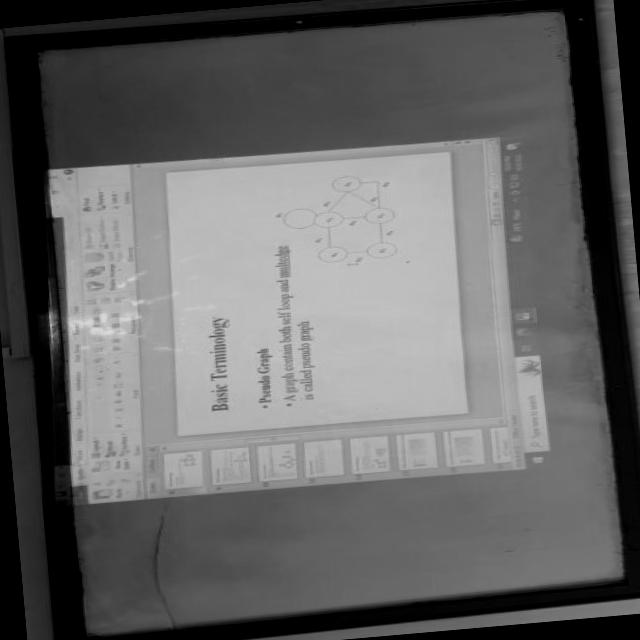Slide: (39, 132, 555, 505)
White-board: (9, 0, 640, 640)
